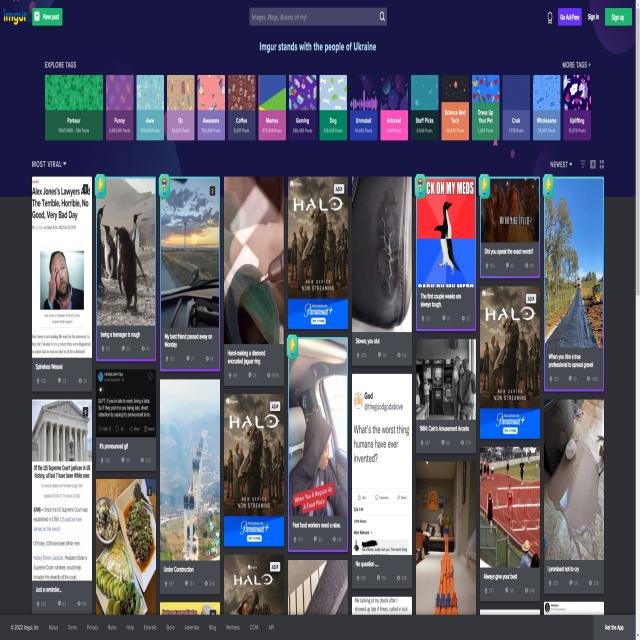menu-bar: (546, 2, 633, 28)
search: (248, 6, 388, 26)
